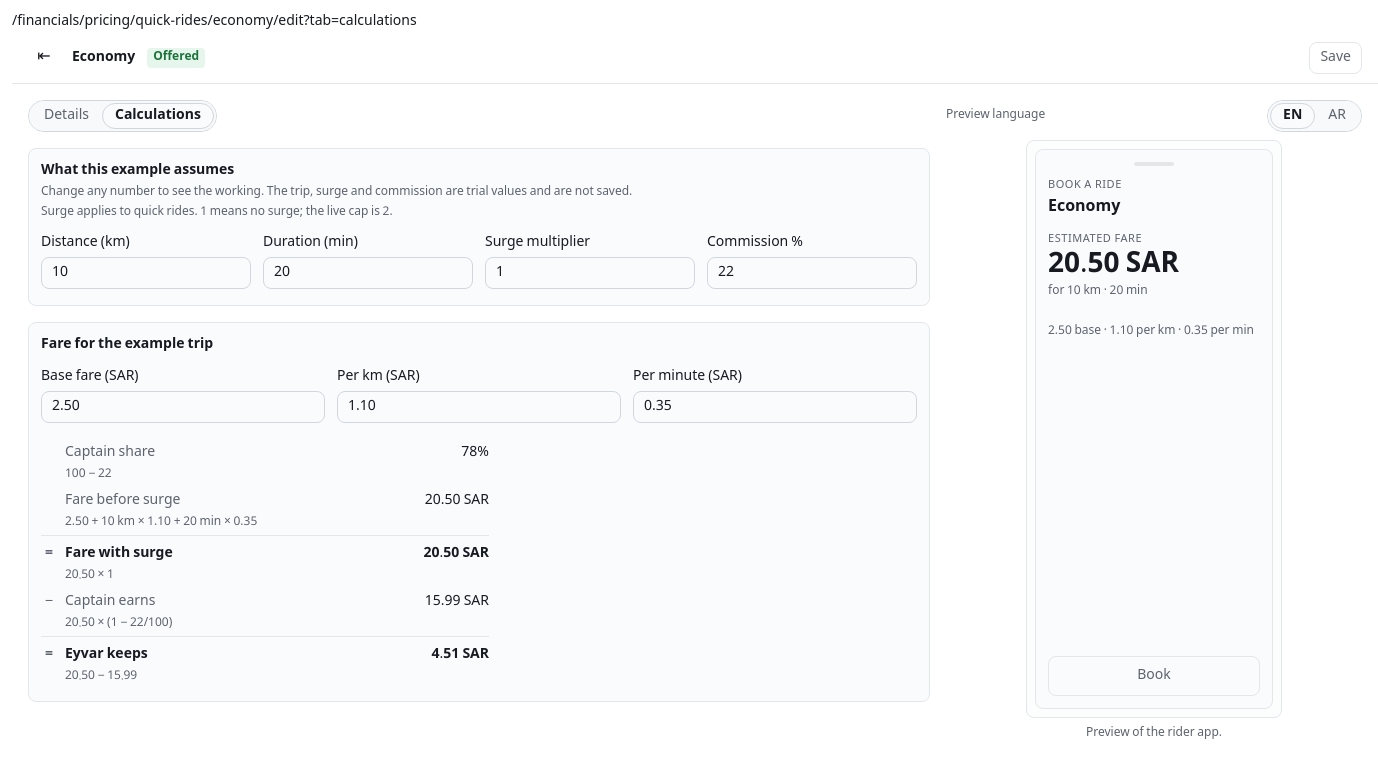
§12 — a quick-ride class is edited in the plan editor’s shape › a rate typed on the Calculations view moves the fare and arms Save
Expected: the element with test id "quick-calculations" is shown, [28,148,930,702]
Expected: the button "Save" is disabled, [1309,42,1362,74]
Replace the text in the field labelled "Per km (SAR)" with "2" at (479, 407), box [337,391,621,423]
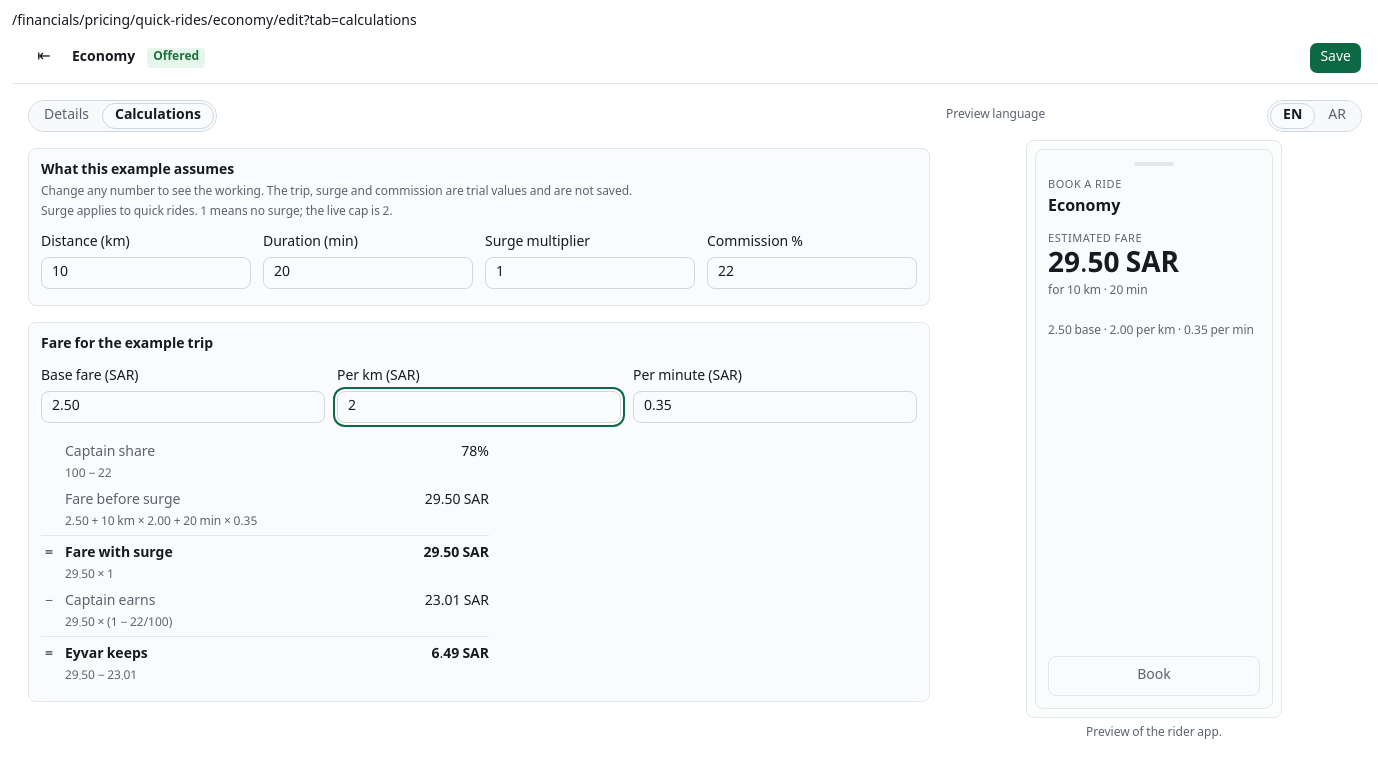
Result: the button "Save" is enabled at [1309,42,1362,74]
